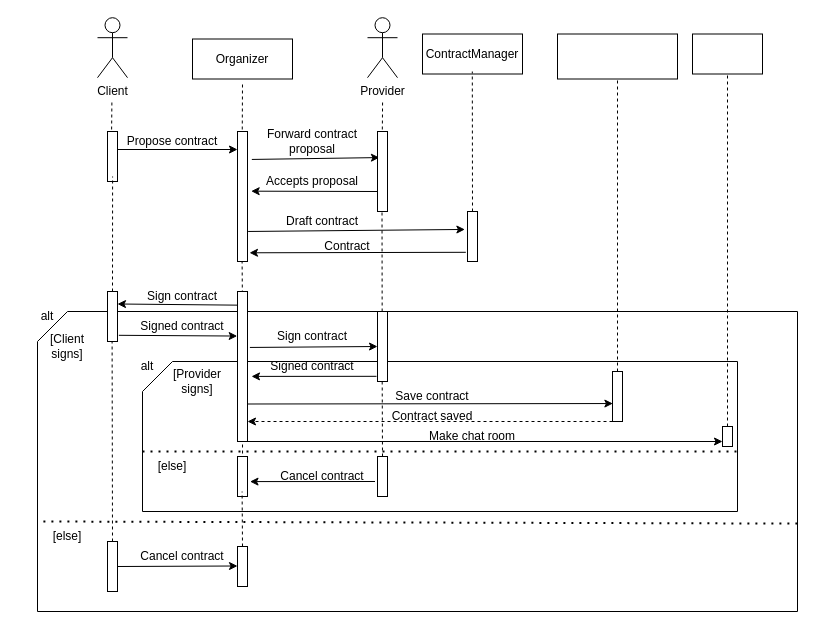
Some shapes in this 820 by 629 pixel diagram are drawn without their labels. The box of each missing label's shape, as (x1, y1, x2, y2) in pixels:
ChatRoom: (692, 33, 762, 74)
Database: Contract Database: (556, 33, 678, 79)
